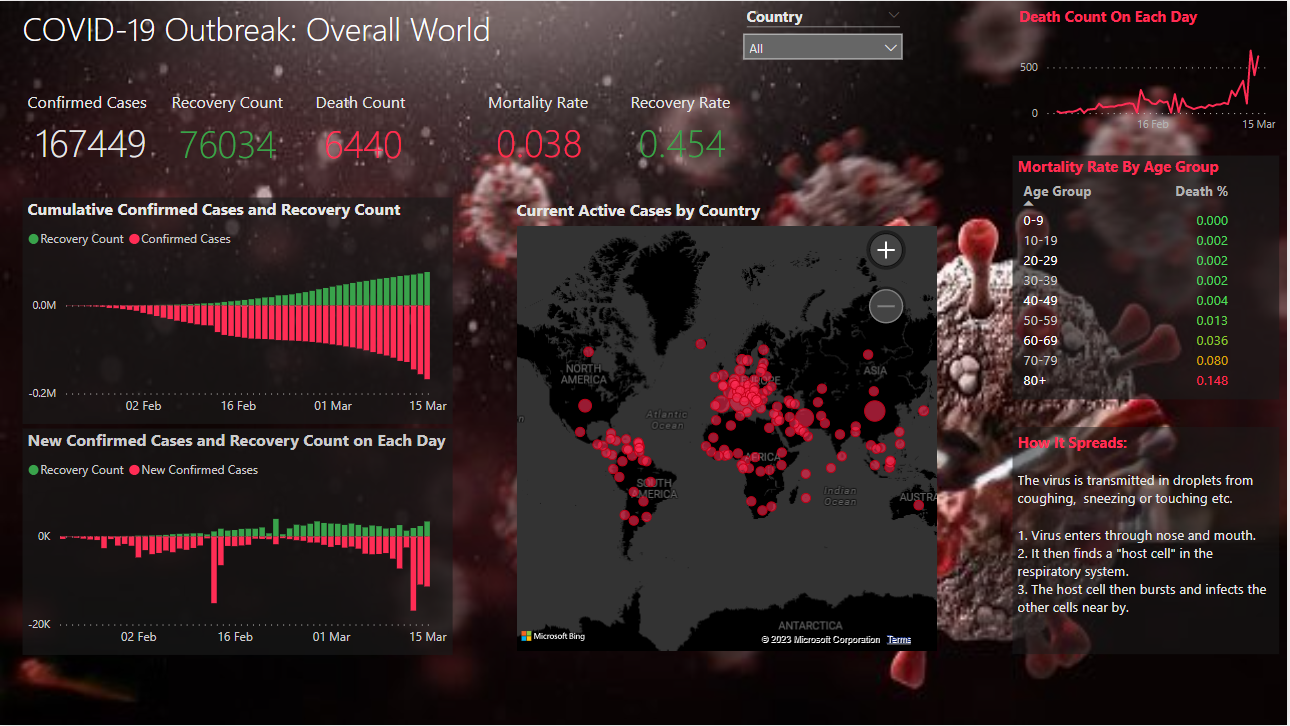

The dashboard page shown, as its layout file describes it:
{"tool":"powerbi","page":{"name":"Summary","canvas":[1280,720],"ordinal":0},"visuals":[{"type":"map","title":"Current Active Cases by Country","fields":{"Category":["Corona Summary.Country/Region"],"Size":["Corona Summary.Current Active Cases"]},"box":[508.6,197.1,427.5,454.6],"z":4500},{"type":"slicer","fields":{"Values":["Corona Summary.Country/Region"]},"box":[729.7,0,178.3,68.4],"z":4750},{"type":"lineChart","title":"Death Count On Each Day","fields":{"Y":["Corona Summary.New Death Count"],"Category":["Corona Summary.Date"]},"box":[1008.5,5.2,265,134.7],"z":5000},{"type":"columnChart","title":"Cumulative  Confirmed Cases and Recovery Count","fields":{"Category":["Corona Summary.Date"],"Y":["Sum(Corona Summary.Recovery Count)","Corona Summary.Confirmed Cases Negative"]},"box":[22,196,428,225],"z":6000},{"type":"columnChart","title":"New Confirmed Cases and Recovery Count on Each Day","fields":{"Category":["Corona Summary.Date"],"Y":["Corona Summary.New Recovery Count","Corona Summary.New Confirmed Cases Negative"]},"box":[22,425,428,225],"z":7000},{"type":"actionButton","box":[21.8,0,700.6,51.8],"z":8000},{"type":"kpi","title":"Confirmed Cases","fields":{"TrendLine":["Corona Summary.Date"],"Indicator":["Sum(Corona Summary.Confirmed Cases)"]},"box":[21.9,90,140,79.8],"z":9000},{"type":"kpi","title":"Recovery Count","fields":{"TrendLine":["Corona Summary.Date"],"Indicator":["Sum(Corona Summary.Recovery Count)"]},"box":[165.5,90,140.2,81.1],"z":10000},{"type":"kpi","title":"Death Count","fields":{"TrendLine":["Corona Summary.Date"],"Indicator":["Sum(Corona Summary.Death Count)"]},"box":[309.3,90,140.2,81.1],"z":11000},{"type":"kpi","title":"Mortality Rate","fields":{"Indicator":["Corona Summary.Death Rate"],"TrendLine":["Corona Summary.Date"]},"box":[480,90,140,79.8],"z":12000},{"type":"textbox","box":[1007.7,424.4,265.4,225.7],"z":14000},{"type":"tableEx","title":"Mortality Rate By Age Group","fields":{"Values":["Death Rate By Age Group.Age Group","Death Rate By Age Group.Death Rate All Cases"]},"box":[1008,154.4,265,242.5],"z":16000},{"type":"kpi","title":"Recovery Rate","fields":{"TrendLine":["Corona Summary.Date"],"Indicator":["Corona Summary.Recovery Rate"]},"box":[622,90,140.2,79.7],"z":17000}]}

Visuals, with their boxes in screenshot pixels (x1, y1, x2, y2), scaled from the page's 1280x720 canvas onto the 1290x726 screenshot:
"Current Active Cases by Country" map: BBox(513, 199, 943, 657)
slicer - Corona Summary.Country/Region: BBox(735, 0, 915, 69)
"Death Count On Each Day" lineChart: BBox(1016, 5, 1283, 141)
"Cumulative  Confirmed Cases and Recovery Count" columnChart: BBox(22, 198, 454, 425)
"New Confirmed Cases and Recovery Count on Each Day" columnChart: BBox(22, 429, 454, 655)
actionButton: BBox(22, 0, 728, 52)
"Confirmed Cases" kpi: BBox(22, 91, 163, 171)
"Recovery Count" kpi: BBox(167, 91, 308, 173)
"Death Count" kpi: BBox(312, 91, 453, 173)
"Mortality Rate" kpi: BBox(484, 91, 625, 171)
textbox: BBox(1016, 428, 1283, 656)
"Mortality Rate By Age Group" tableEx: BBox(1016, 156, 1283, 400)
"Recovery Rate" kpi: BBox(627, 91, 768, 171)
